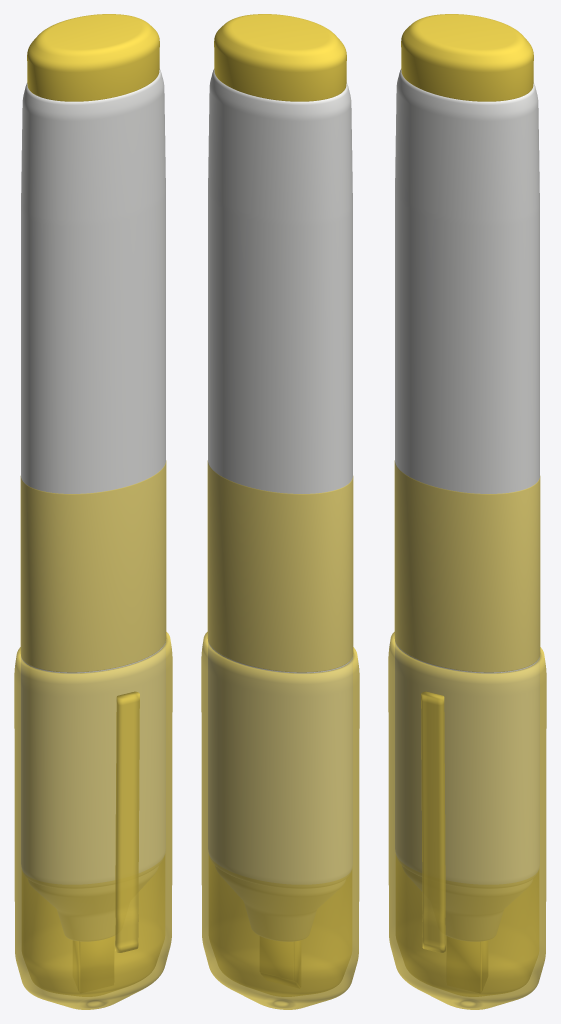
Rendered from marker-wide.glb.
3 renders of one model, left to right at view 1: azimuth 30°, elevation 25°; view 2: azimuth 150°, elevation 25°; view 3: azimuth 330°, elevation 25°, orthographic.
Visible parts, largest first — view 1: Barrel, Cap, InkWindow, Plug, CapClip, Nose, Felt; view 2: Barrel, Cap, InkWindow, Plug, Nose, Felt; view 3: Barrel, Cap, InkWindow, Plug, CapClip, Nose, Felt.
Boxes of the visible parts, x1=… form: Barrel: x1=21, y1=69, x2=165, y2=888; Cap: x1=14, y1=632, x2=172, y2=1009; InkWindow: x1=20, y1=460, x2=166, y2=672; Plug: x1=27, y1=14, x2=159, y2=101; CapClip: x1=115, y1=691, x2=139, y2=952; Nose: x1=29, y1=866, x2=158, y2=940; Felt: x1=73, y1=937, x2=113, y2=992; Barrel: x1=208, y1=69, x2=352, y2=888; Cap: x1=201, y1=632, x2=359, y2=1009; InkWindow: x1=207, y1=460, x2=353, y2=672; Plug: x1=214, y1=14, x2=346, y2=101; Nose: x1=215, y1=866, x2=344, y2=940; Felt: x1=260, y1=937, x2=300, y2=987; Barrel: x1=395, y1=69, x2=539, y2=888; Cap: x1=388, y1=632, x2=546, y2=1009; InkWindow: x1=394, y1=460, x2=540, y2=672; Plug: x1=401, y1=14, x2=533, y2=101; CapClip: x1=421, y1=691, x2=445, y2=952; Nose: x1=402, y1=866, x2=531, y2=940; Felt: x1=447, y1=937, x2=487, y2=992.
Size of the model in its own units: 0.0204 by 0.1295 by 0.0161.
